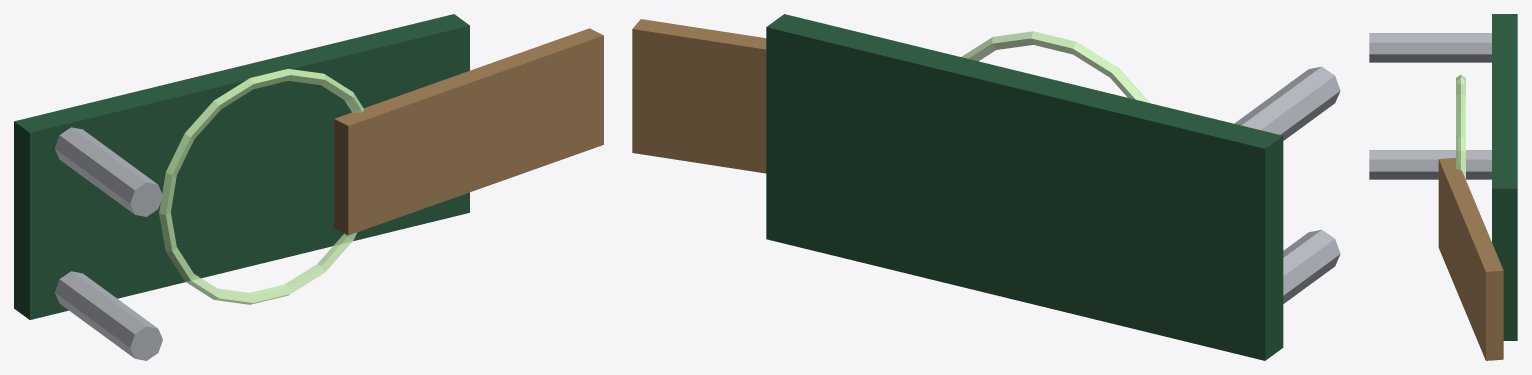
The model's file is 10_skyship_dock.glb.
3 views of the same model, side by side, from view 1: azimuth 30°, elevation 25°; view 2: azimuth 150°, elevation 25°; view 3: azimuth 270°, elevation 25° (orthographic). The views are drawn at different scales.
Visible parts, largest first — view 1: dock_platform, boarding_ramp, dock_marker_ring, mooring_post_l, mooring_post_r; view 2: dock_platform, boarding_ramp, mooring_post_r, dock_marker_ring, mooring_post_l; view 3: boarding_ramp, dock_platform, mooring_post_r, mooring_post_l, dock_marker_ring.
Boxes of the visible parts, left/top/right/bottom form: dock_platform: left=14, top=14, right=469, bottom=319; boarding_ramp: left=334, top=28, right=603, bottom=235; dock_marker_ring: left=159, top=68, right=363, bottom=304; mooring_post_l: left=54, top=271, right=162, bottom=360; mooring_post_r: left=54, top=127, right=162, bottom=216; dock_platform: left=766, top=14, right=1283, bottom=360; boarding_ramp: left=632, top=19, right=766, bottom=173; mooring_post_r: left=1234, top=66, right=1340, bottom=140; dock_marker_ring: left=961, top=31, right=1149, bottom=102; mooring_post_l: left=1283, top=230, right=1340, bottom=303; boarding_ramp: left=1438, top=158, right=1503, bottom=360; dock_platform: left=1492, top=14, right=1517, bottom=340; mooring_post_r: left=1369, top=33, right=1491, bottom=62; mooring_post_l: left=1369, top=150, right=1491, bottom=179; dock_marker_ring: left=1456, top=74, right=1465, bottom=179.
Bounding box in the file's own units: 2.07 × 0.7878 × 0.575.
